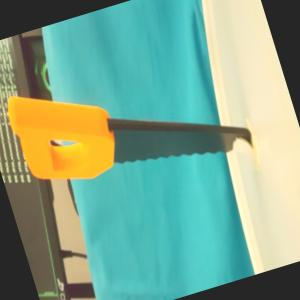serrote: (1, 31, 256, 212)
